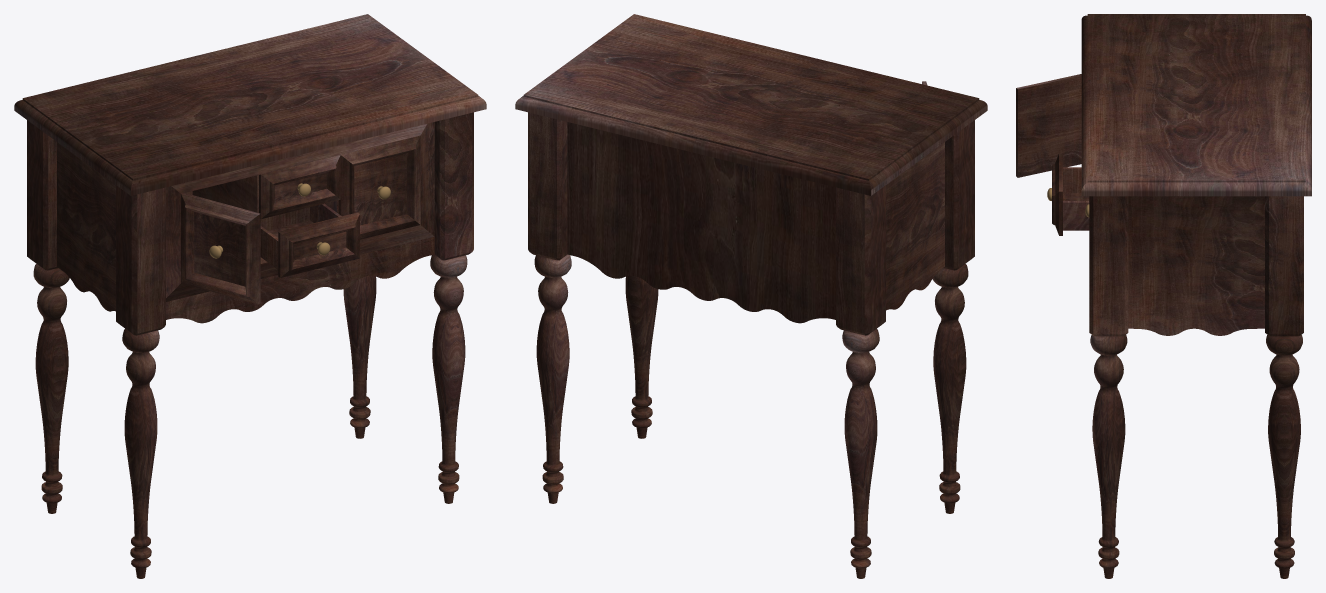
The model's file is SideTable.gltf.
3 views of the same model, side by side, from view 1: azimuth 30°, elevation 25°; view 2: azimuth 150°, elevation 25°; view 3: azimuth 270°, elevation 25° (orthographic).
Parts seen in each view (by area): view 1: Plane, Plane.005, Plane.009, Plane.006, Plane.007; view 2: Plane; view 3: Plane, Plane.005, Plane.006.
Boxes of the visible parts, bbox=[...] form: Plane: bbox=[14, 14, 486, 578]; Plane.005: bbox=[181, 193, 260, 304]; Plane.009: bbox=[338, 135, 420, 239]; Plane.006: bbox=[260, 203, 359, 277]; Plane.007: bbox=[259, 155, 340, 218]; Plane: bbox=[515, 14, 987, 578]; Plane: bbox=[1081, 14, 1311, 578]; Plane.005: bbox=[1016, 74, 1081, 177]; Plane.006: bbox=[1047, 153, 1089, 235].
Bounding box in the file's own units: 1.04 × 1.15 × 0.7576.
Materials: 2 (1 with a texture image).
